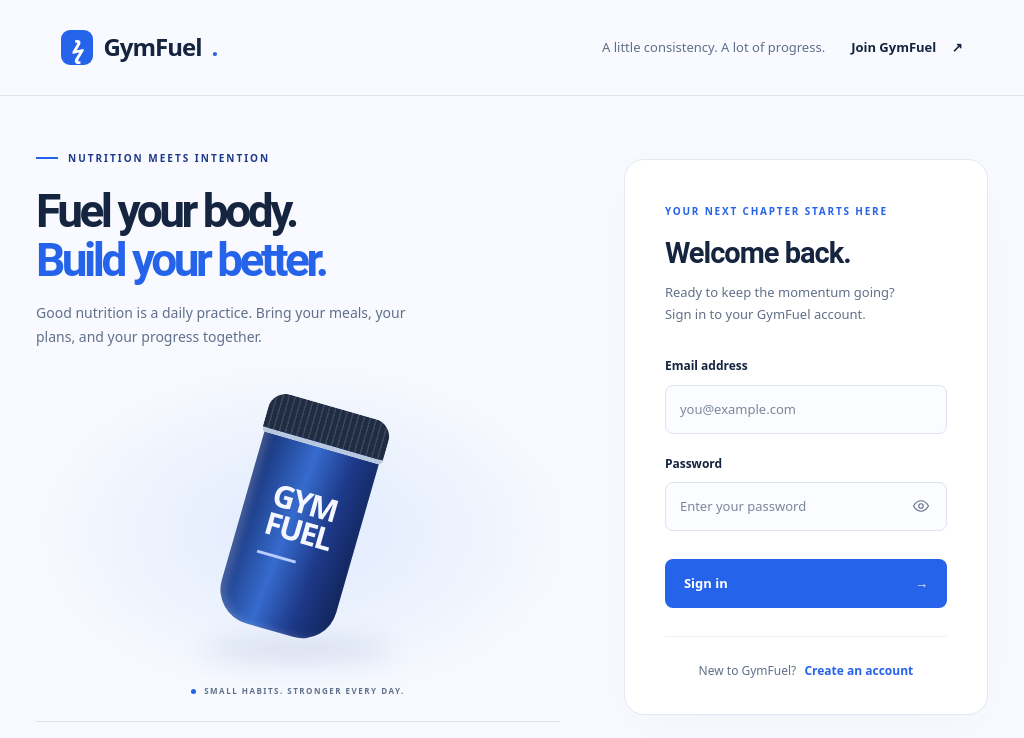
it: failed authentication remains readable and permits another attempt
Step 1. Type "test@example.com" into the field labelled "Email address" → coordinates (806, 409), box x1=665 y1=385 x2=947 y2=434
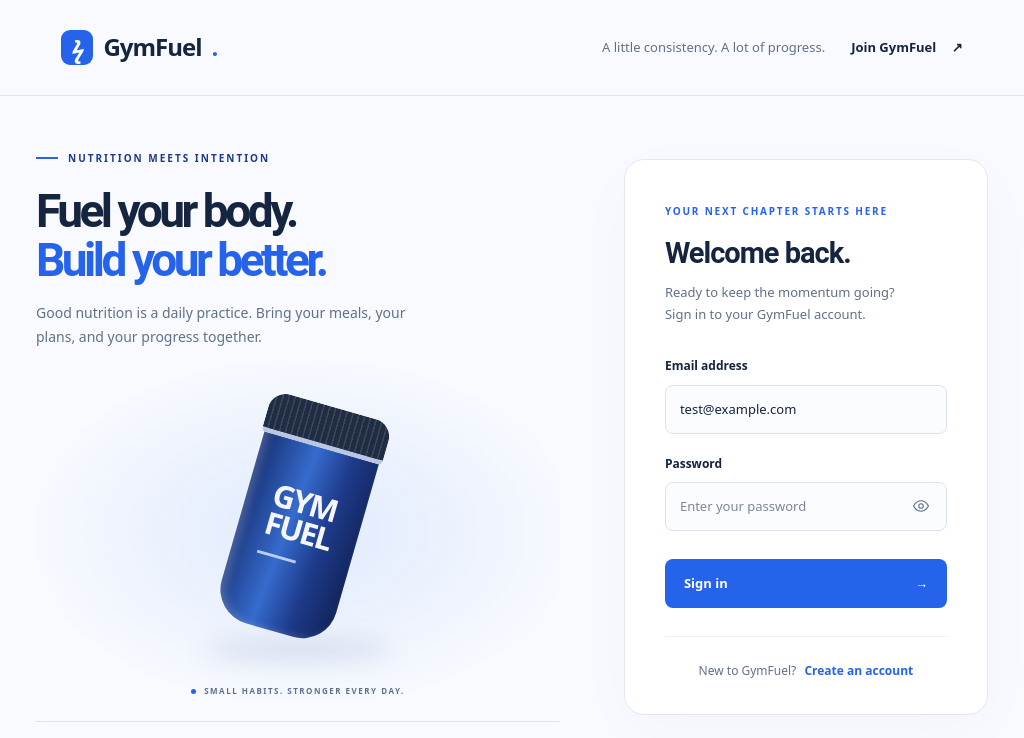
Step 2. Type "test-password" into the password field labelled "Password" → coordinates (806, 506), box x1=665 y1=482 x2=947 y2=531
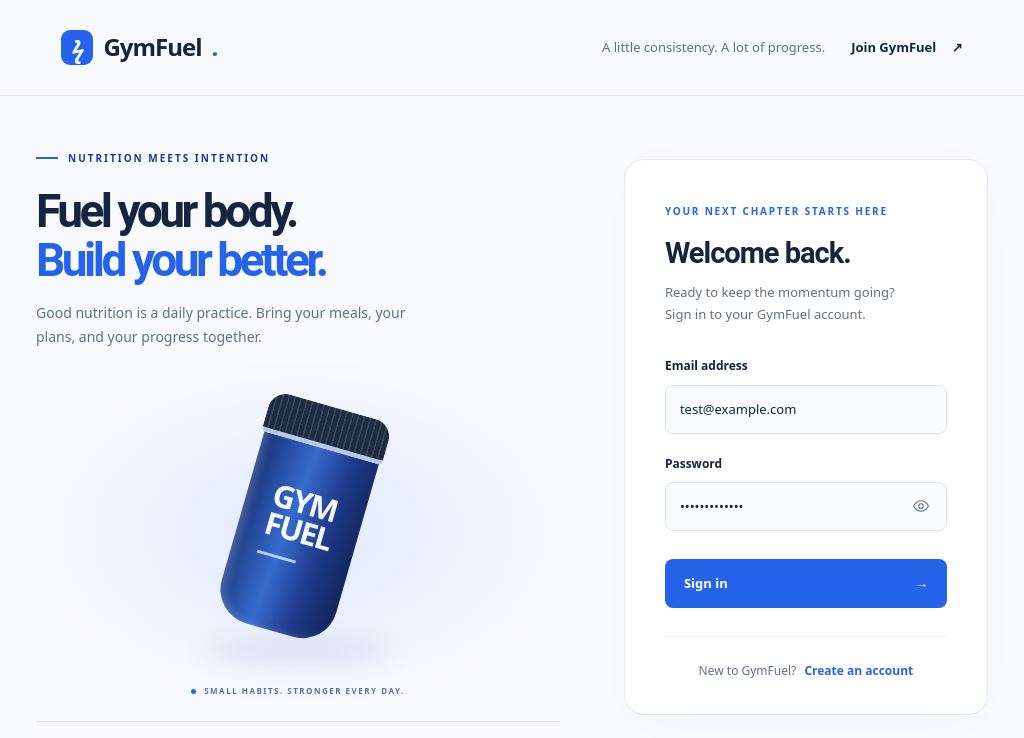
Step 3. Click the button "Sign in →" → coordinates (706, 583), box x1=665 y1=559 x2=947 y2=608
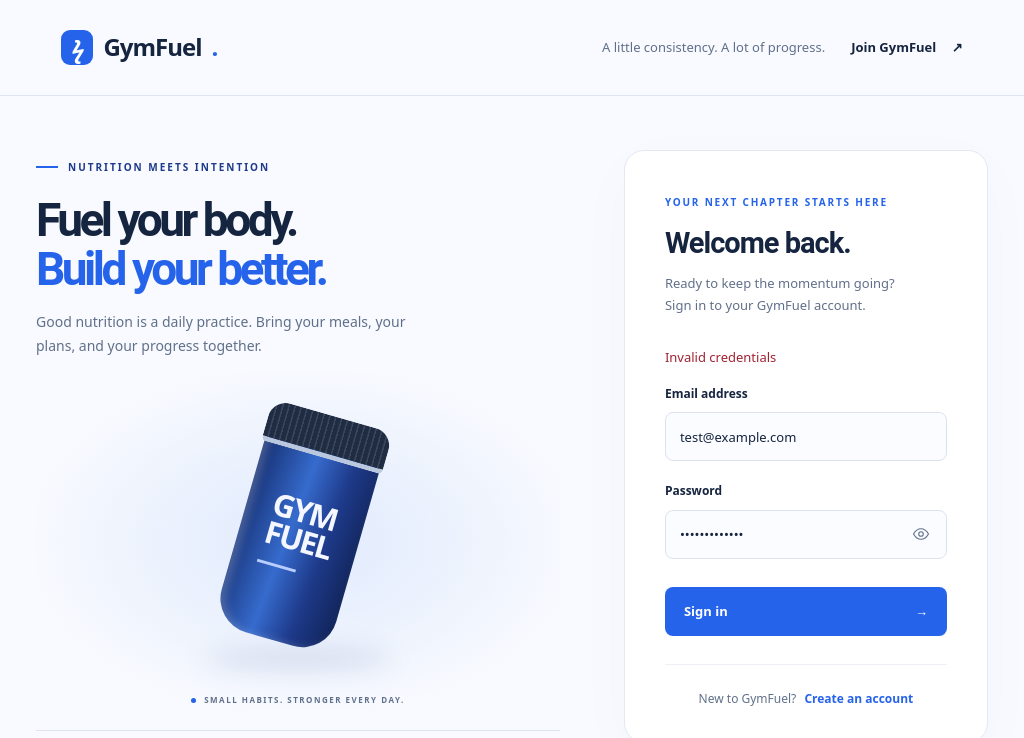
Expected: the button "Sign in →" is enabled, x1=665 y1=587 x2=947 y2=636
Now the message reads "Invalid credentials", box x1=665 y1=348 x2=776 y2=366
